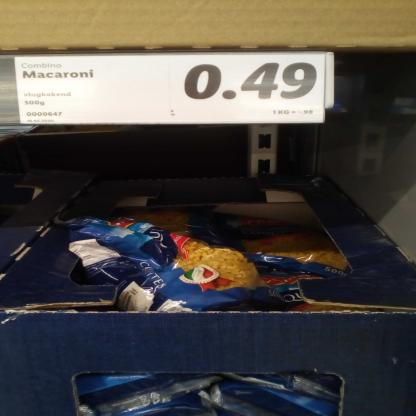prtg: (15, 55, 326, 125)
